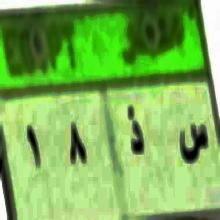1: (26, 122, 44, 176)
8: (65, 119, 89, 175)
seen: (178, 121, 209, 171)
zaal: (126, 103, 145, 161)
